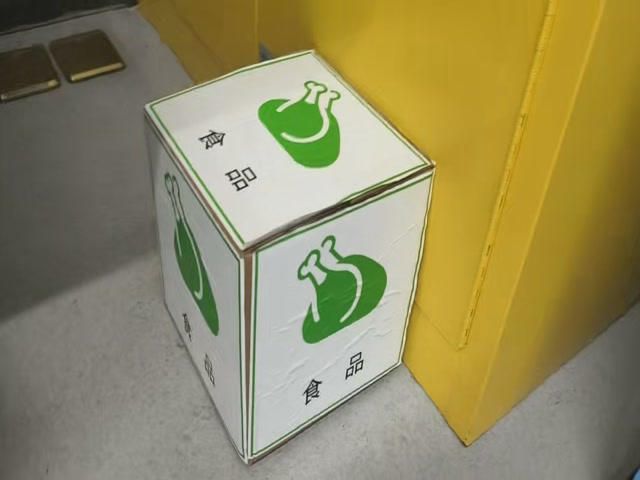Cube_food: (143, 47, 433, 253)
